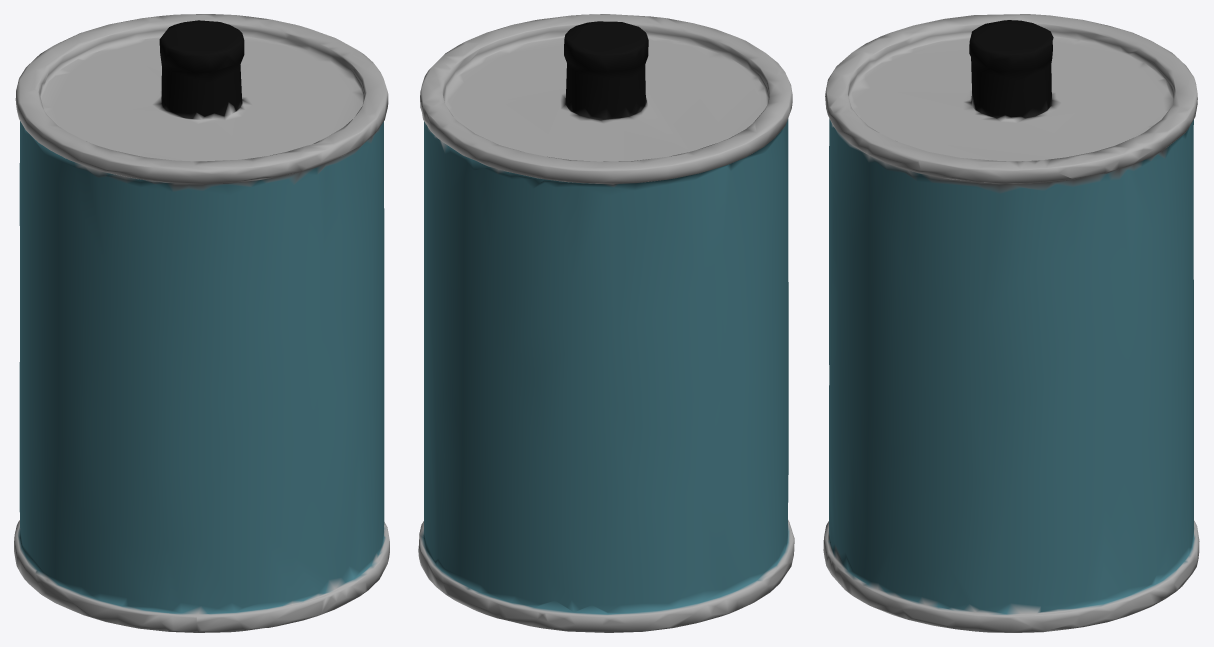
File: gen3d-fuel-can-lod0.glb
3 views of the same model, side by side, from view 1: azimuth 30°, elevation 25°; view 2: azimuth 150°, elevation 25°; view 3: azimuth 270°, elevation 25° (orthographic).
Parts seen in each view (by area): view 1: part_0; view 2: part_0; view 3: part_0.
Part boxes in pixels (<box>): part_0: <box>14,14,389,632</box>; part_0: <box>418,14,794,632</box>; part_0: <box>823,14,1199,632</box>.
Bounding box in the file's own units: 0.6584 × 1 × 0.6584.
